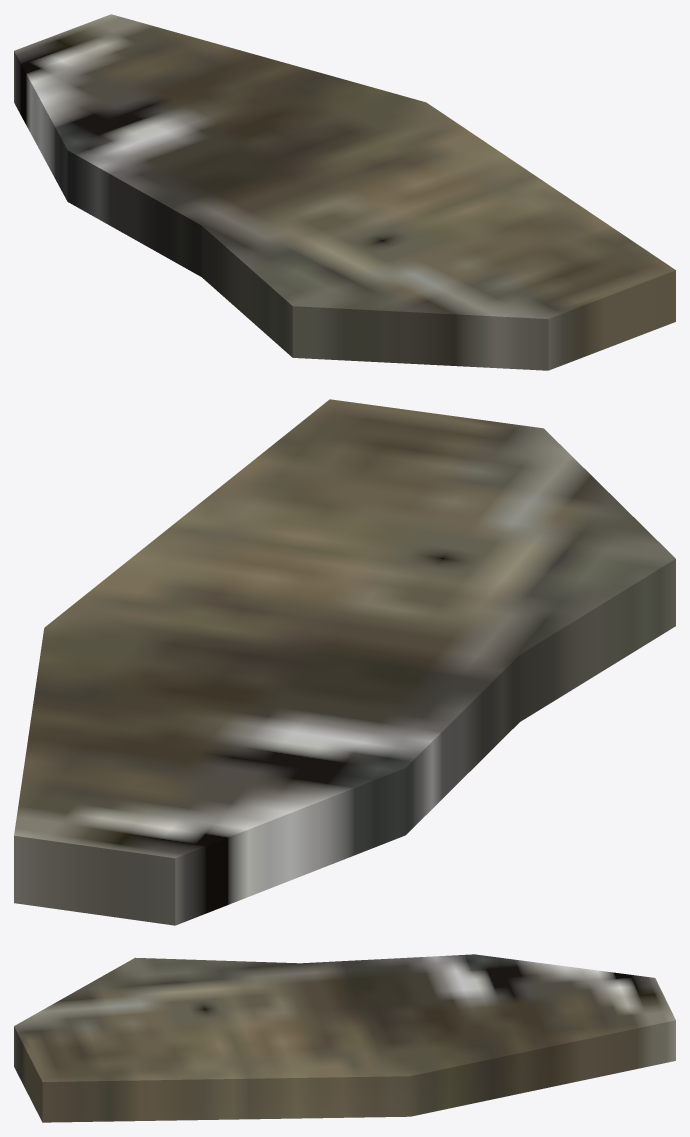
File: USA - Aviation - Cargo Plane - Damage State 6 - AvCargoPln_d6.glb
3 views of the same model, one above another, from view 1: azimuth 30°, elevation 25°; view 2: azimuth 150°, elevation 25°; view 3: azimuth 270°, elevation 25° (orthographic). The views are drawn at different scales.
Parts seen in each view (by area): view 1: AVCARGOPLN_D6; view 2: AVCARGOPLN_D6; view 3: AVCARGOPLN_D6.
Part boxes in pixels (box(x1,y1,x2,y2)): AVCARGOPLN_D6: box(14, 14, 675, 370); AVCARGOPLN_D6: box(14, 399, 675, 925); AVCARGOPLN_D6: box(14, 954, 675, 1122).
Bounding box in the file's own units: 5.06 × 0.75 × 11.09.
Materials: 1 (1 with a texture image).
